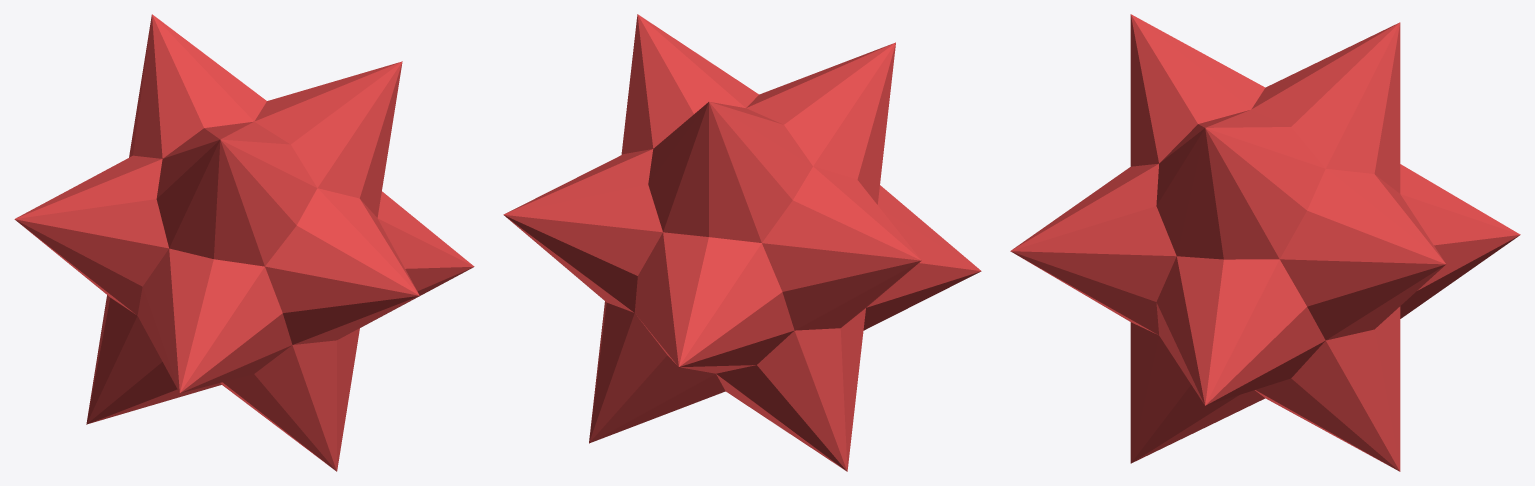
Rendered from small_stellapentakisdodecahedron.obj.
The picture shows the model from 3 angles, left to right: view 1: azimuth 30°, elevation 25°; view 2: azimuth 150°, elevation 25°; view 3: azimuth 270°, elevation 25°; orthographic projection. The views are drawn at different scales.
Visible parts, largest first — view 1: Shape_IndexedFaceSet; view 2: Shape_IndexedFaceSet; view 3: Shape_IndexedFaceSet.
Boxes of the visible parts, box(x1,y1,x2,y2) form: Shape_IndexedFaceSet: box(14, 14, 474, 471); Shape_IndexedFaceSet: box(503, 14, 981, 471); Shape_IndexedFaceSet: box(1010, 14, 1520, 471).
Size of the model in its own units: 3.6 by 3.24 by 3.65.
